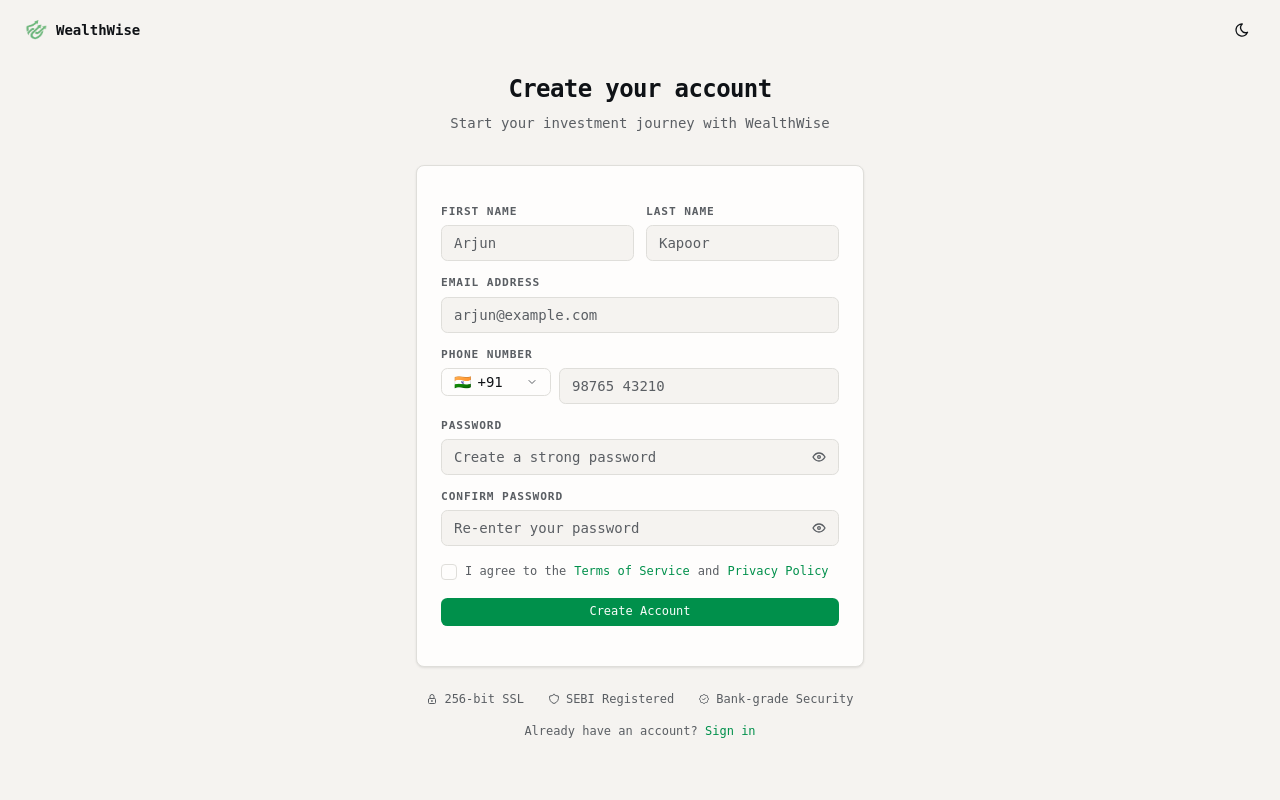
it: SignUpPage › shows passwords match when they match
In the password field labelled "Password": coordinates (640, 457) [441,439,839,475], type "StrongPass1!"
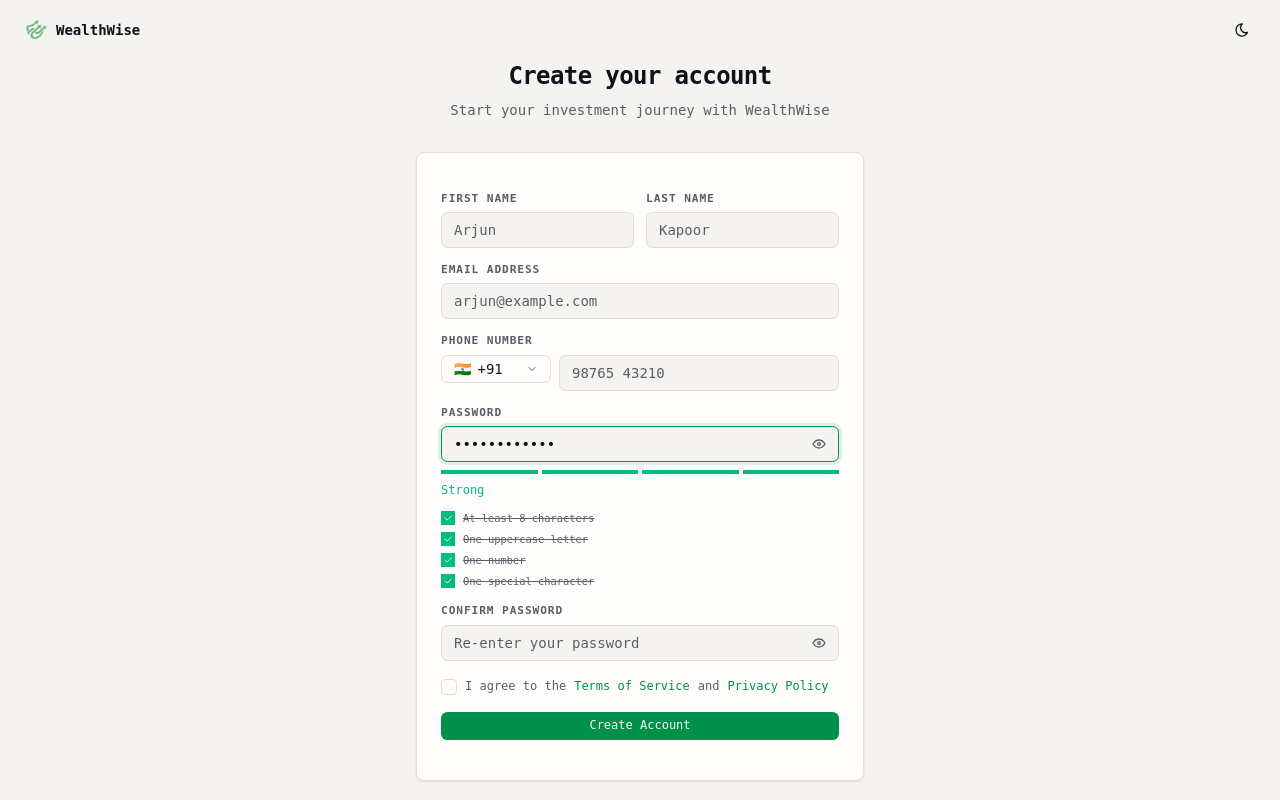
In the password field labelled "Confirm Password": coordinates (640, 643) [441,625,839,661], type "StrongPass1!"
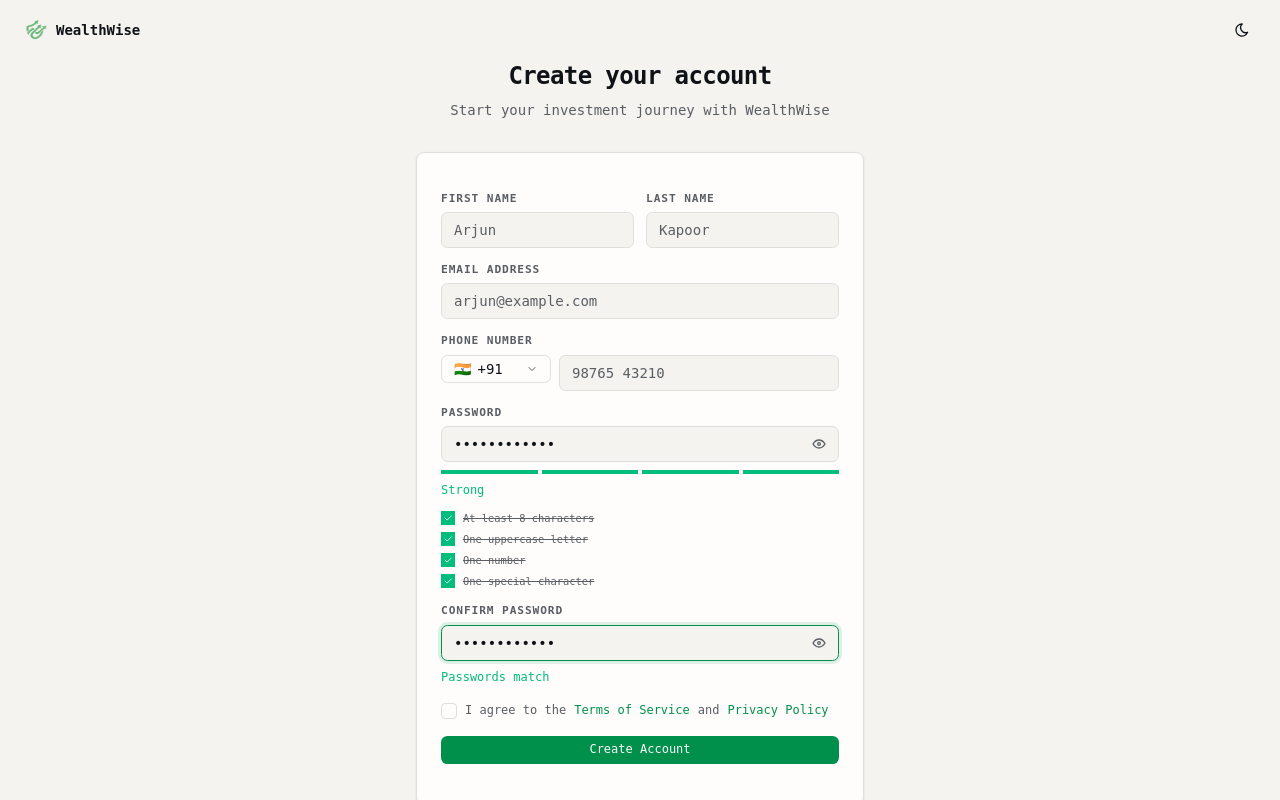
expect the text "Passwords match" is shown: met, box [441,670,549,684]
